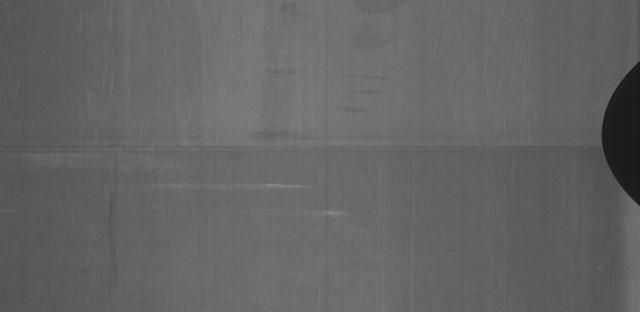welding_line: (1, 136, 631, 167)
